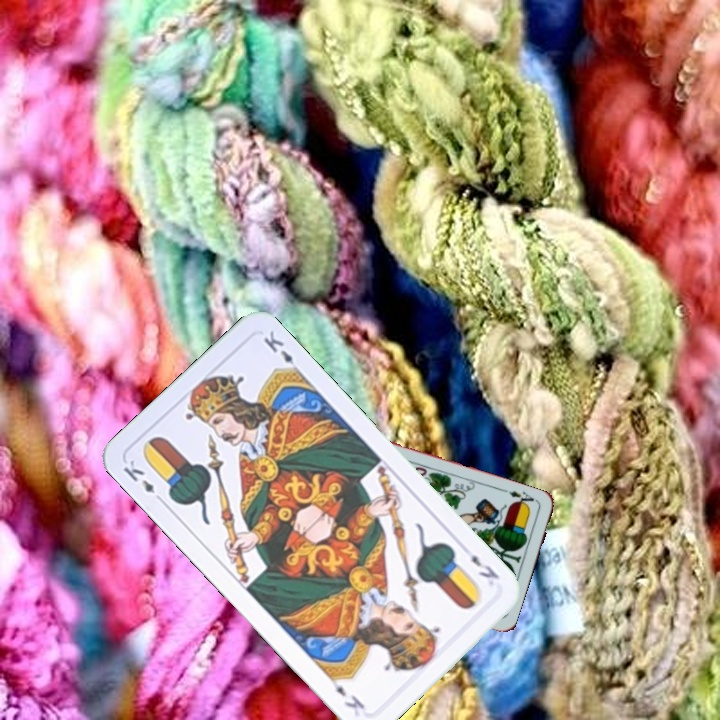EA: (505, 487, 540, 510)
EK: (118, 455, 167, 506), (466, 550, 502, 582)
